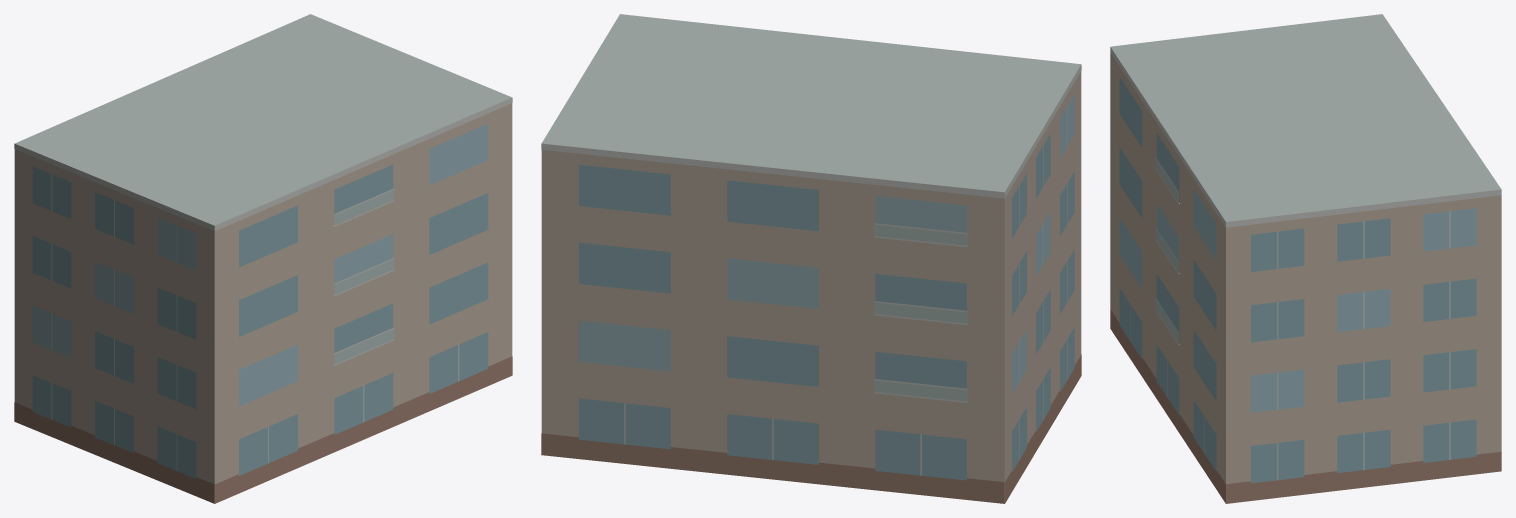
Rendered from survey-upis-32595030.glb.
3 renders of one model, left to right at view 1: azimuth 30°, elevation 25°; view 2: azimuth 150°, elevation 25°; view 3: azimuth 270°, elevation 25°, orthographic. The views are drawn at different scales.
Parts seen in each view (by area): view 1: survey-upis-32595030.tmp; view 2: survey-upis-32595030.tmp; view 3: survey-upis-32595030.tmp.
Part boxes in pixels (x1=…): survey-upis-32595030.tmp: x1=14, y1=14, x2=512, y2=503; survey-upis-32595030.tmp: x1=541, y1=14, x2=1081, y2=503; survey-upis-32595030.tmp: x1=1110, y1=14, x2=1501, y2=503.
Bounding box in the file's own units: 19.33 × 12.2 × 15.37.
